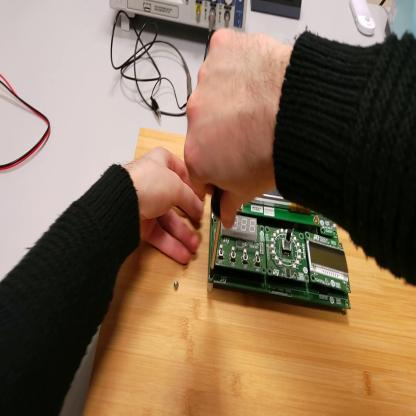hand: (183, 27, 282, 228), (126, 147, 203, 262)
oscilloscope: (110, 3, 249, 34)
oscilloscope probe tip: (184, 59, 193, 102)
screwdriver-: (209, 184, 228, 279)
welder station: (387, 3, 416, 36)
working area: (82, 124, 416, 415)
